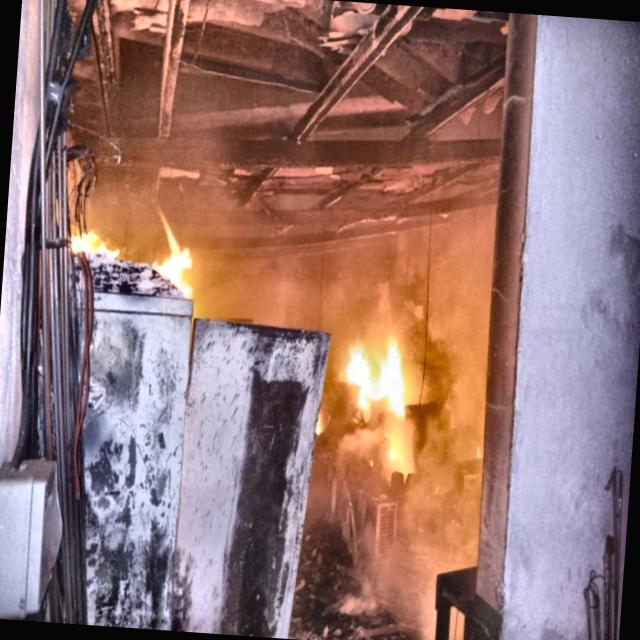fire: (62, 183, 243, 305), (326, 286, 432, 464)
